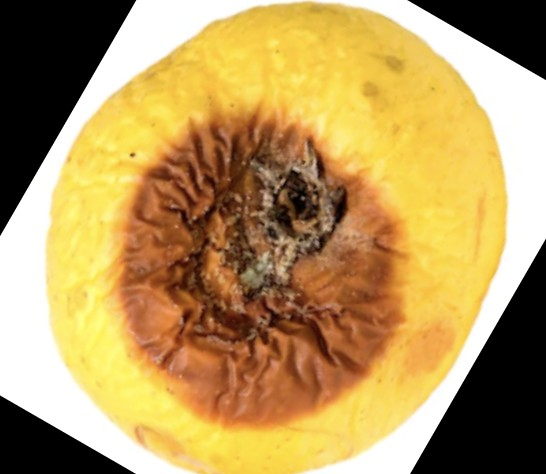rotten_apple: (46, 3, 509, 474)
